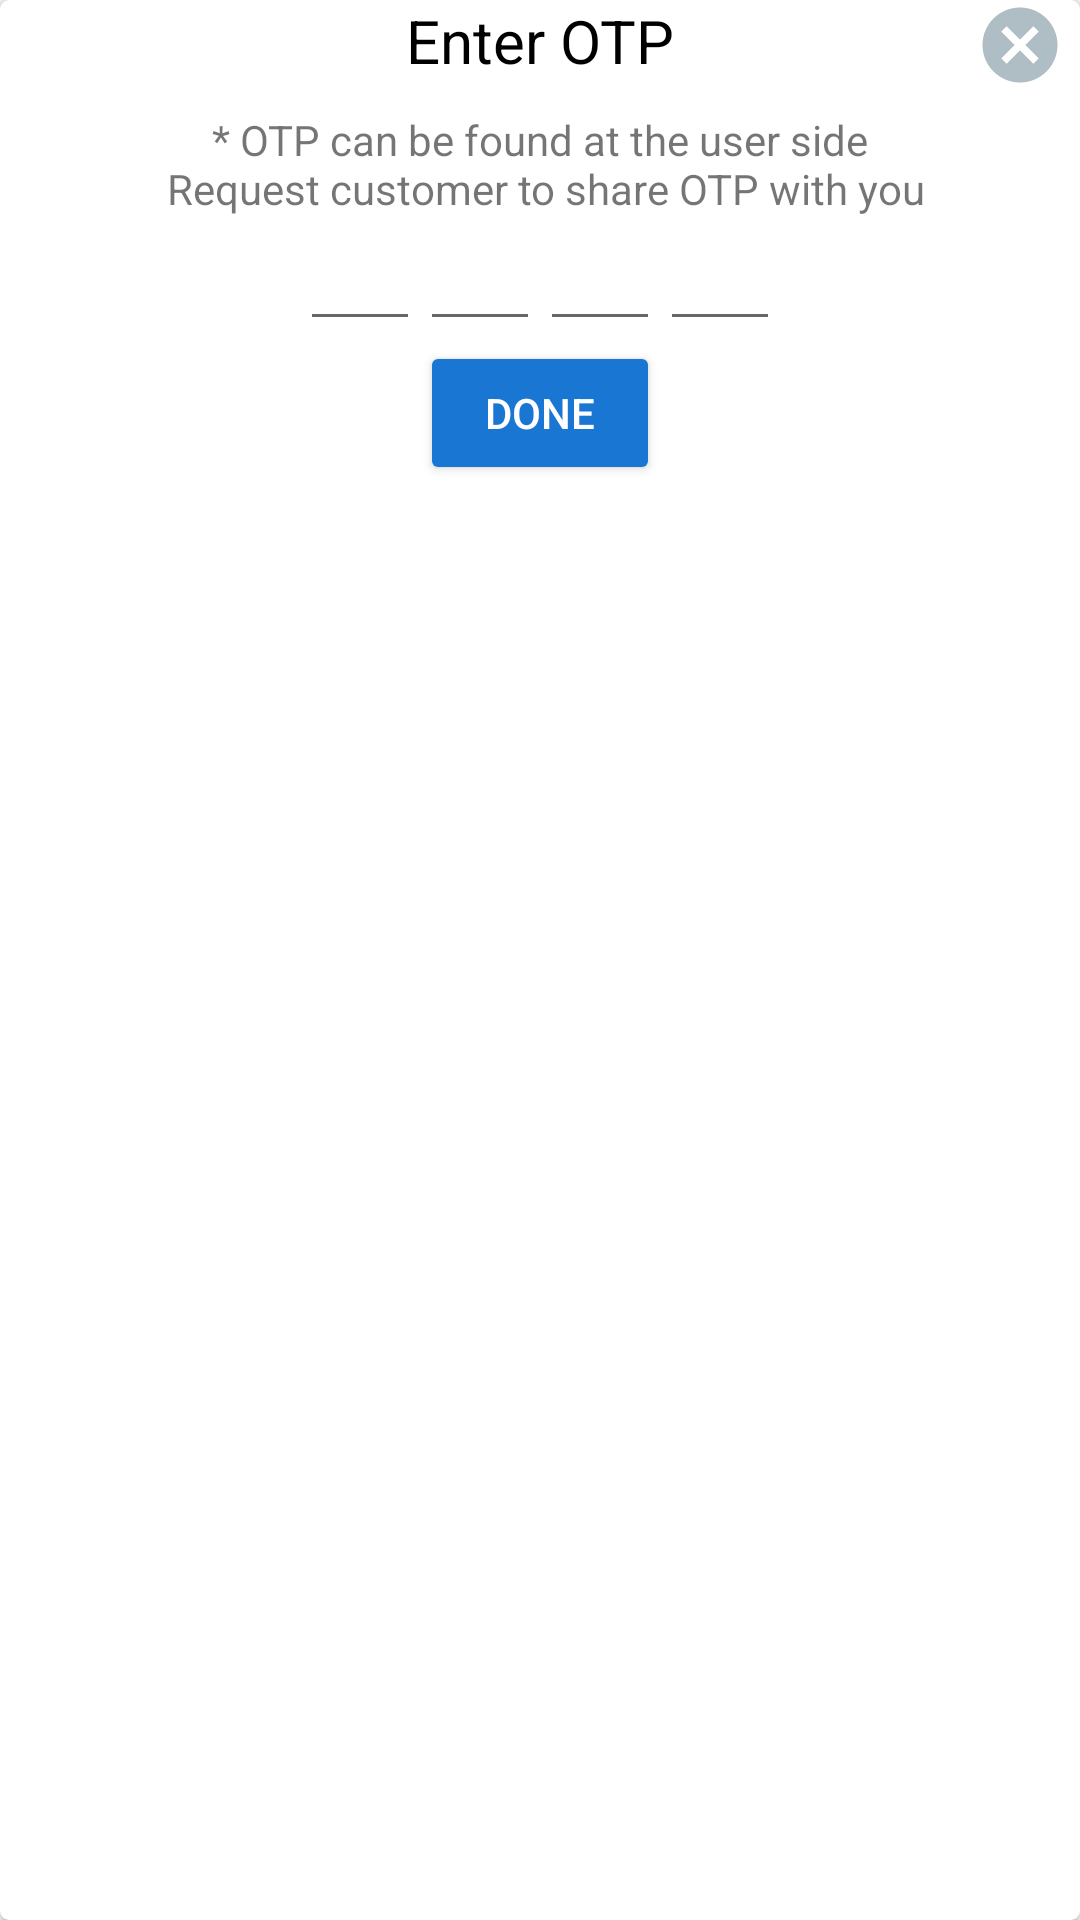

Point at icon controls on the screen. Image size 1080*1920, points as (x,y).
cancel: (1020,45)
